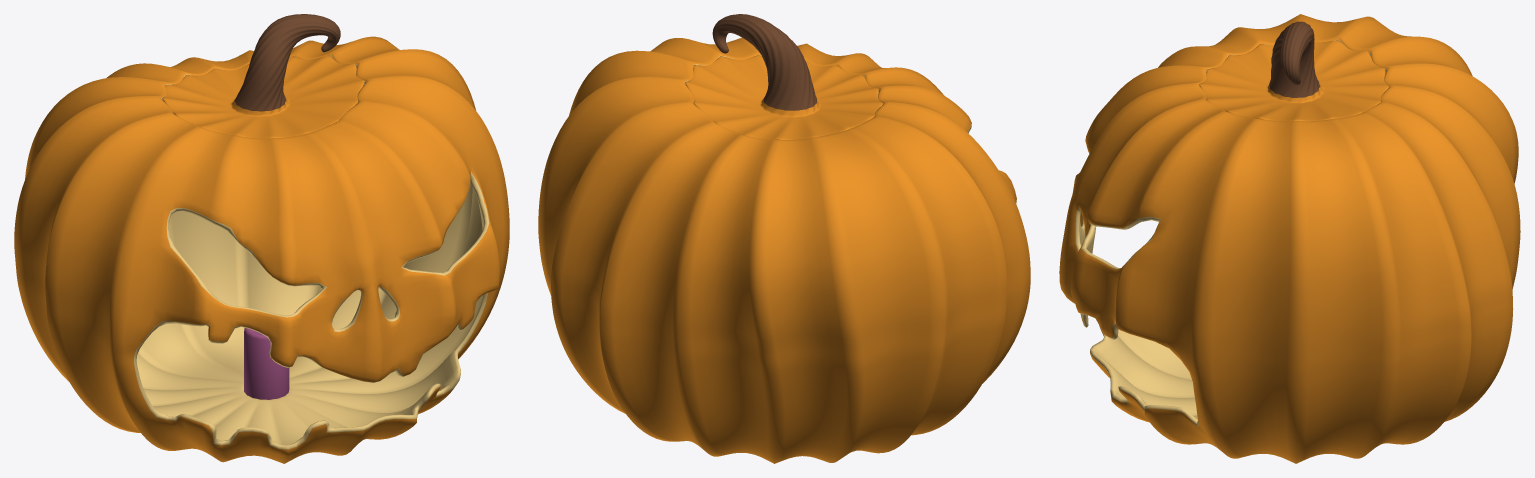
File: Pumpkins.fbx
The picture shows the model from 3 angles, left to right: view 1: azimuth 30°, elevation 25°; view 2: azimuth 150°, elevation 25°; view 3: azimuth 270°, elevation 25°; orthographic projection. The views are drawn at different scales.
Visible parts, largest first — view 1: Pum, PumTop, Candal; view 2: Pum, PumTop; view 3: Pum, PumTop.
Part boxes in pixels (x1,y1,x2,y2): Pum: [14, 36, 509, 463]; PumTop: [162, 14, 364, 138]; Candal: [244, 328, 289, 399]; Pum: [538, 37, 1030, 463]; PumTop: [685, 14, 883, 139]; Pum: [1059, 14, 1520, 463]; PumTop: [1199, 21, 1389, 121].
Bounding box in the file's own units: 234 × 196 × 207.
